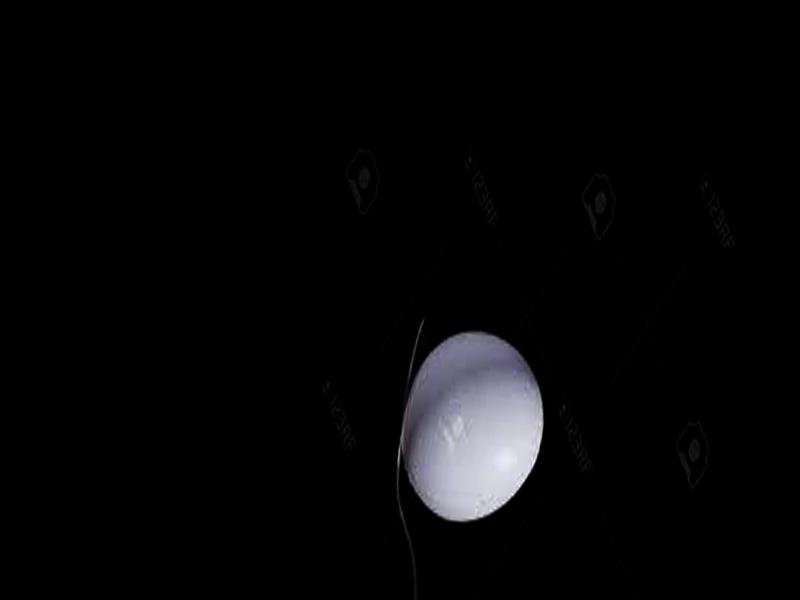Eggs: (392, 323, 550, 529)
